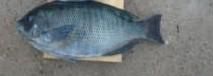fish: (16, 0, 166, 62)
